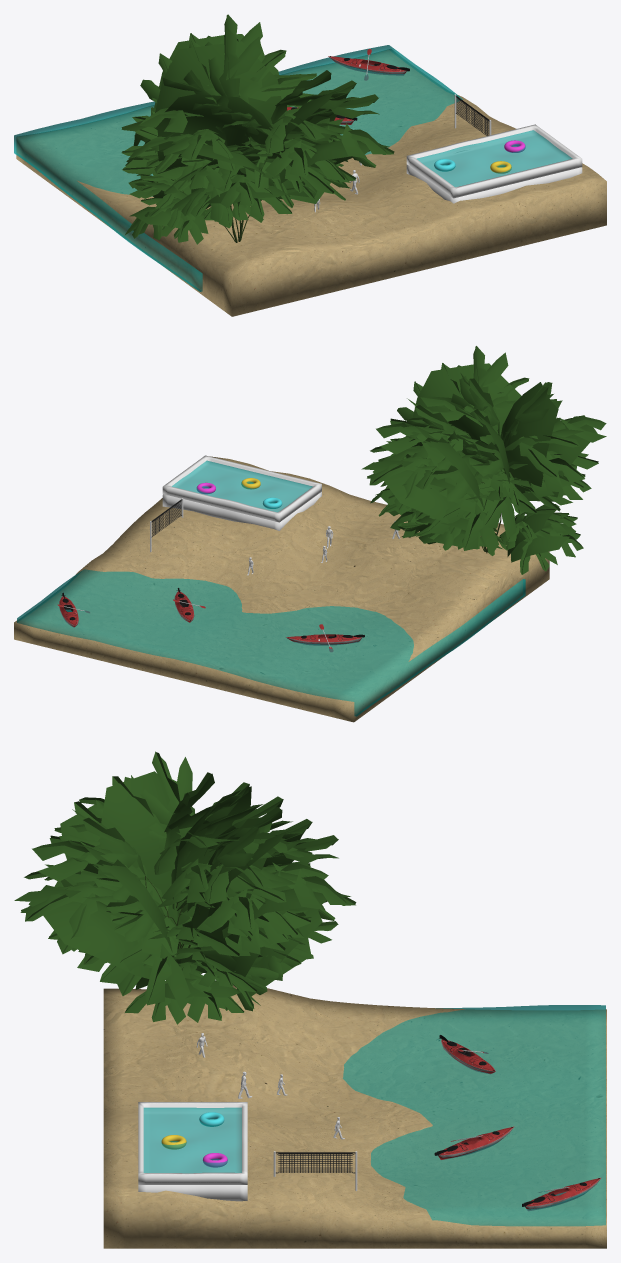
The model's file is Plage.glb.
3 views of the same model, one above another, from view 1: azimuth 30°, elevation 25°; view 2: azimuth 150°, elevation 25°; view 3: azimuth 270°, elevation 25° (orthographic). The views are drawn at different scales.
Parts seen in each view (by area): view 1: Plane; view 2: Plane; view 3: Plane.
Part boxes in pixels (x1,y1,x2,y2): Plane: (14,14,606,316); Plane: (14,346,606,722); Plane: (14,751,606,1248).
Bounding box in the file's own units: 0.1305 × 0.0689 × 0.1287.
11 materials, 2 textured.
